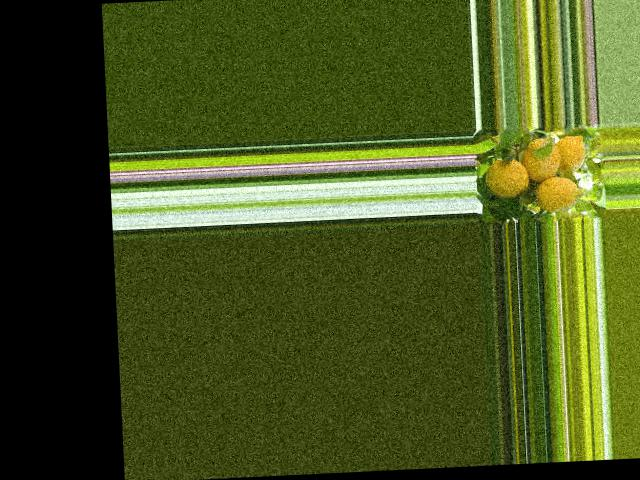lemon: (482, 152, 530, 200)
